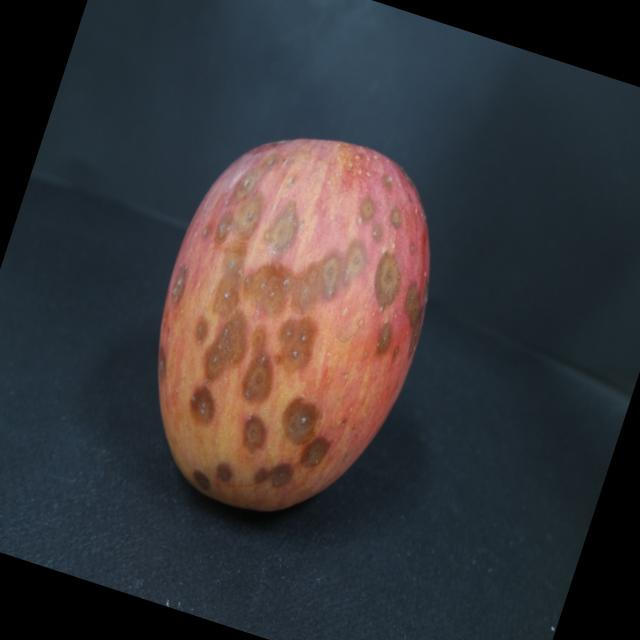rotten: (99, 79, 490, 568)
